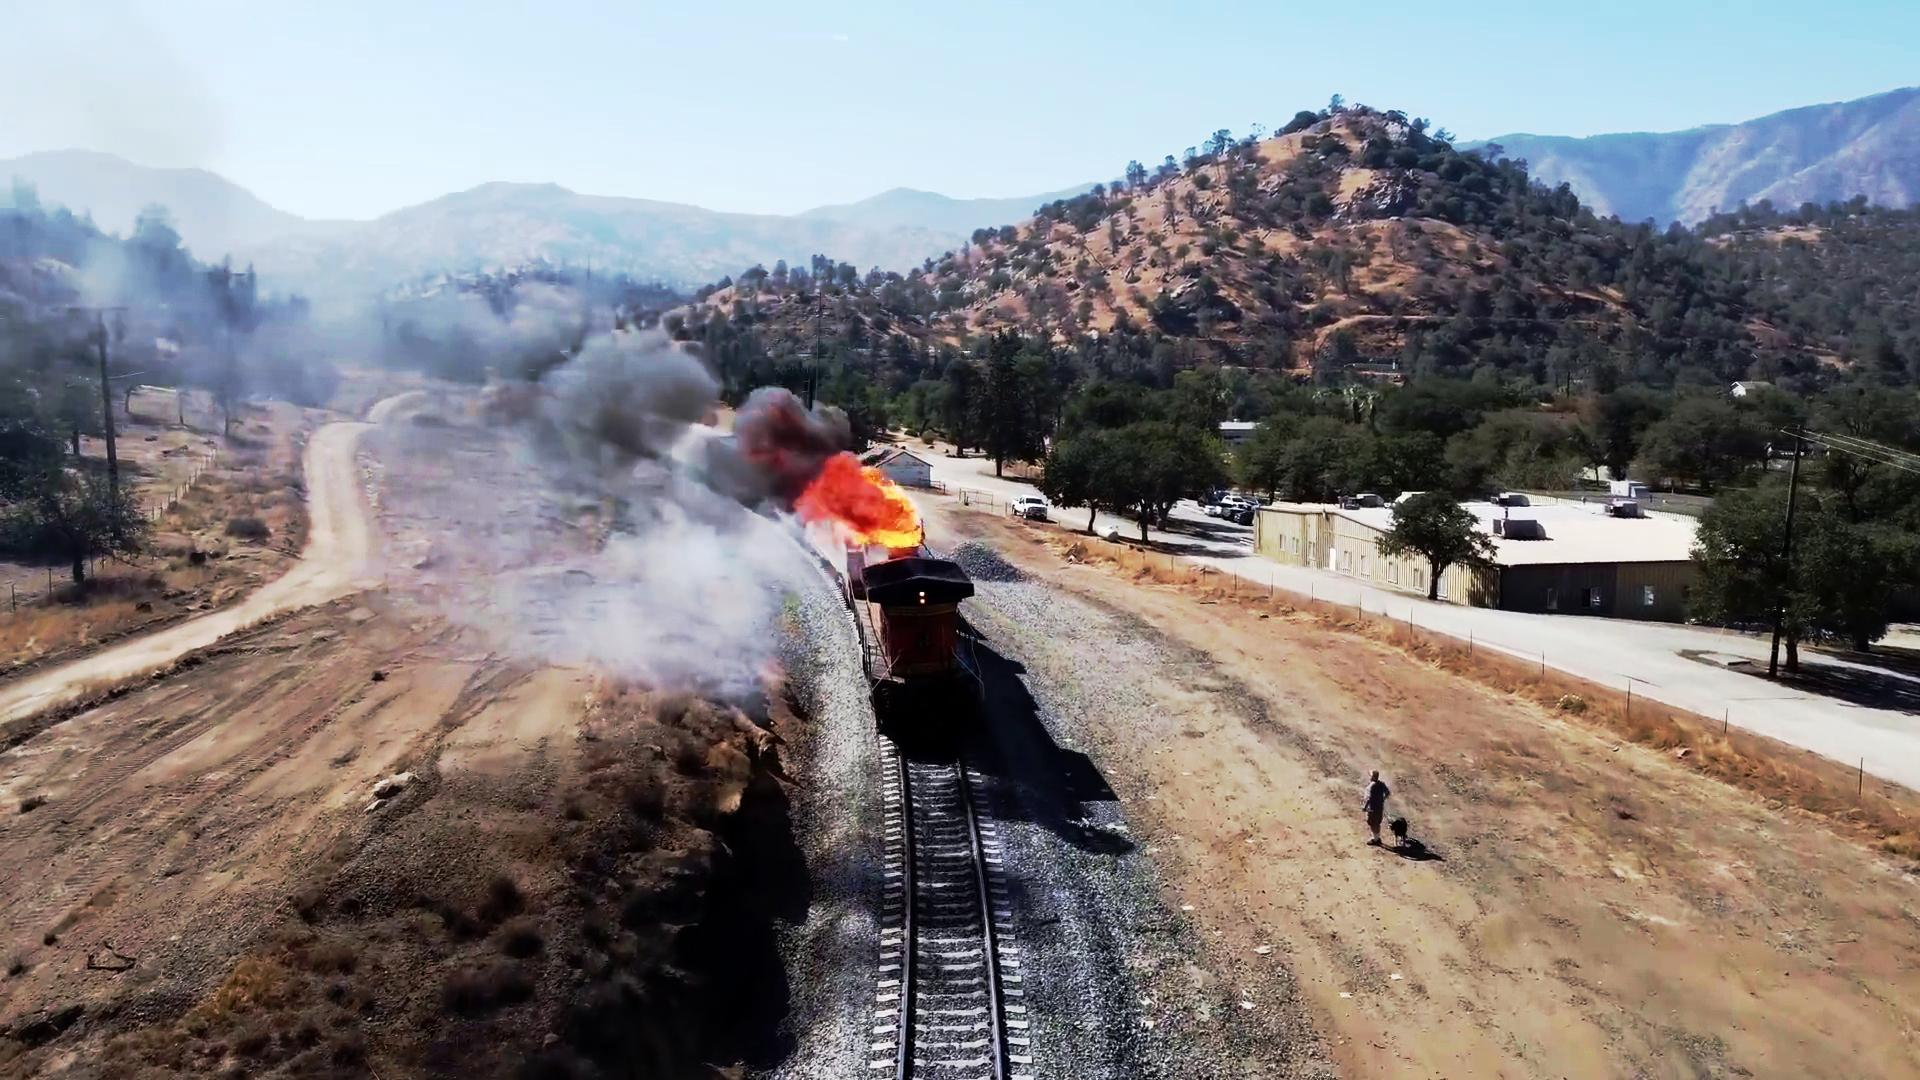fire: (806, 446, 927, 538)
